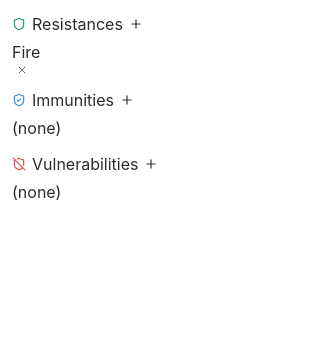
Scenario: DamageDefensesSection › filters out active types from dropdown
Press the mouse on the button named "Add resistances" at (136, 24), box x1=129 y1=17 x2=143 y2=31
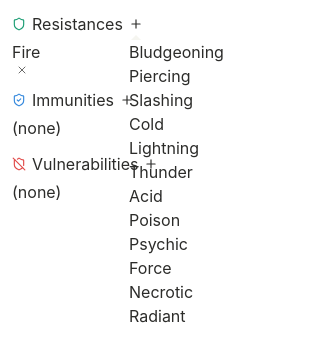
Expected: the menu item "Cold" is shown, x1=129 y1=114 x2=164 y2=134
